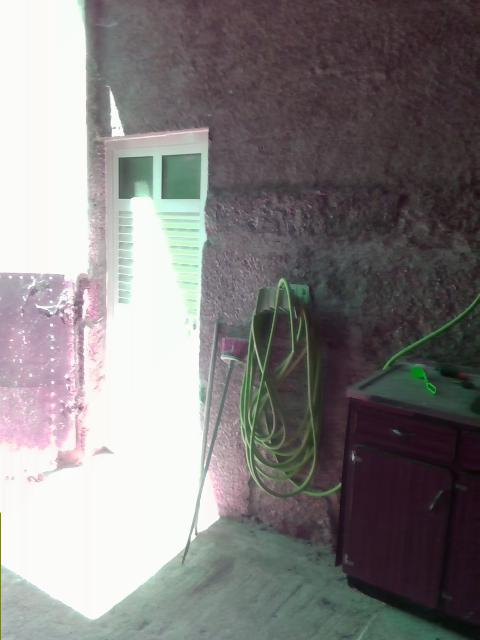closed_door: (102, 125, 207, 465)
